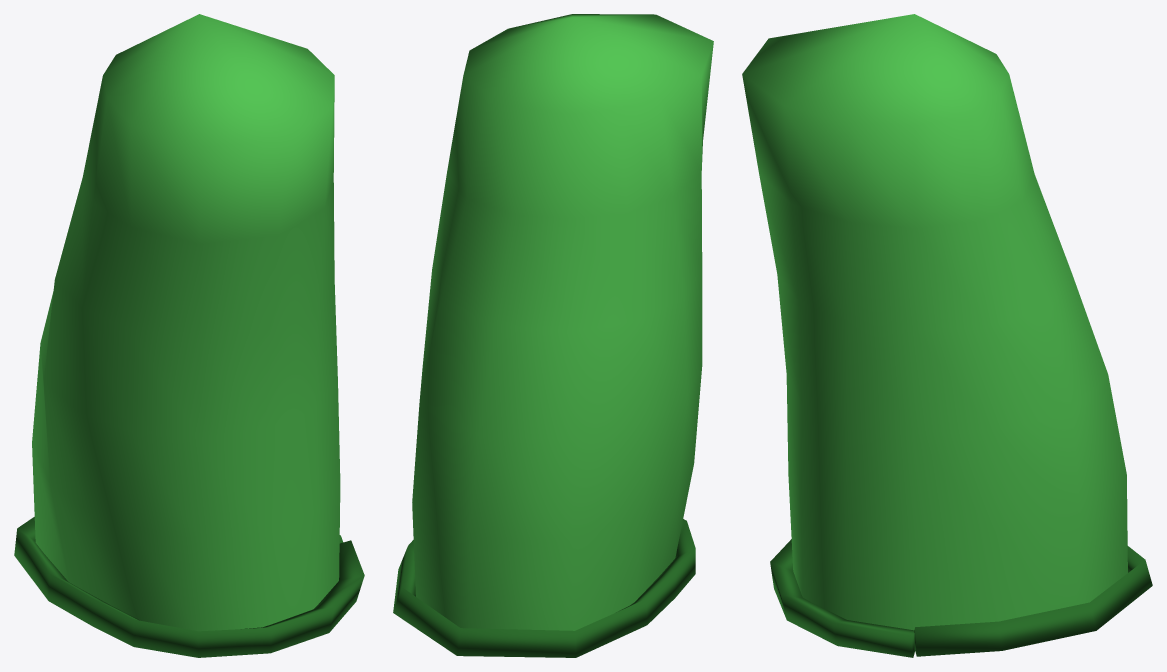
Rendered from chlorophyte_armor_boot.R.glb.
3 renders of one model, left to right at view 1: azimuth 30°, elevation 25°; view 2: azimuth 150°, elevation 25°; view 3: azimuth 270°, elevation 25°, orthographic. The views are drawn at different scales.
Visible parts, largest first — view 1: chlorophyte_armor_boot.R; view 2: chlorophyte_armor_boot.R; view 3: chlorophyte_armor_boot.R.
Part boxes in pixels (x1=…): chlorophyte_armor_boot.R: x1=14, y1=14, x2=364, y2=657; chlorophyte_armor_boot.R: x1=393, y1=14, x2=713, y2=657; chlorophyte_armor_boot.R: x1=742, y1=14, x2=1152, y2=657.
Bounding box in the file's own units: 0.1433 × 0.2958 × 0.1912.
